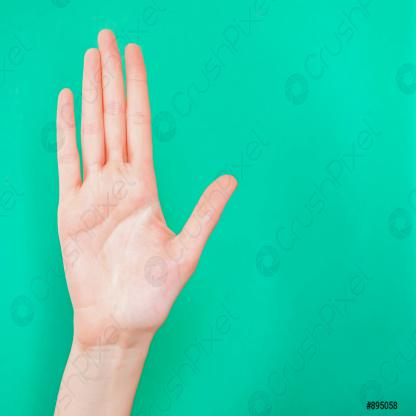Stop: (39, 34, 222, 353)
